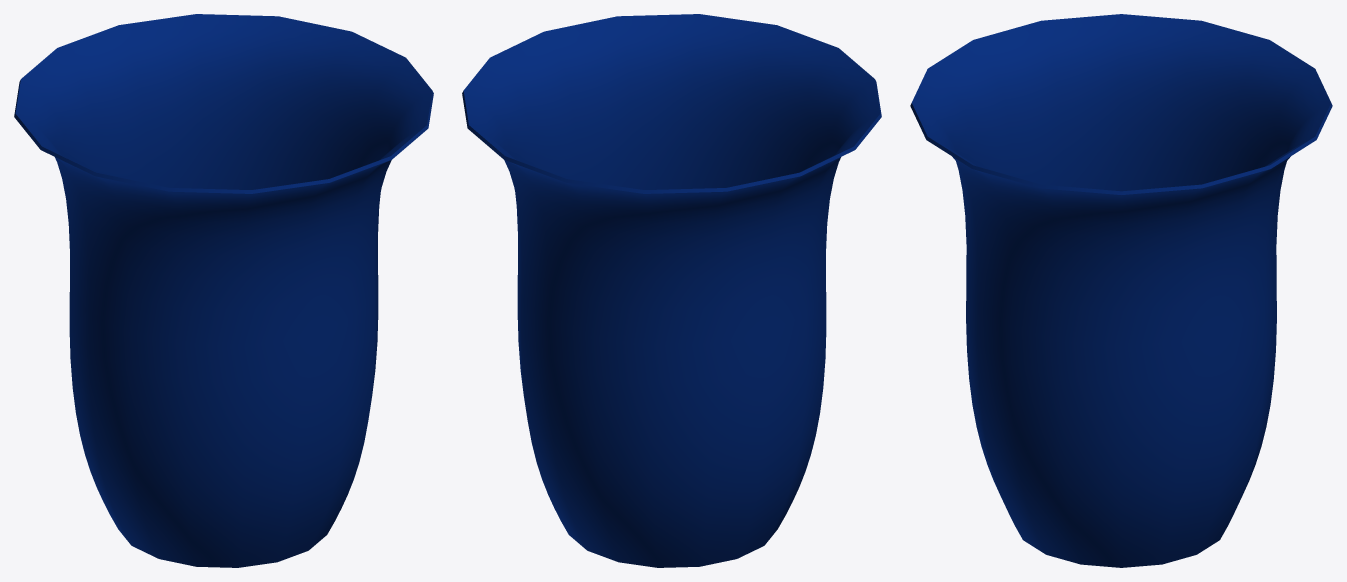
Rendered from cup.FBX.
3 renders of one model, left to right at view 1: azimuth 30°, elevation 25°; view 2: azimuth 150°, elevation 25°; view 3: azimuth 270°, elevation 25°, orthographic.
Visible parts, largest first — view 1: Line001; view 2: Line001; view 3: Line001.
Part boxes in pixels (x1=…): Line001: x1=14, y1=14, x2=433, y2=567; Line001: x1=462, y1=14, x2=881, y2=567; Line001: x1=910, y1=14, x2=1332, y2=567.
Bounding box in the file's own units: 80.54 × 88.52 × 80.54.
